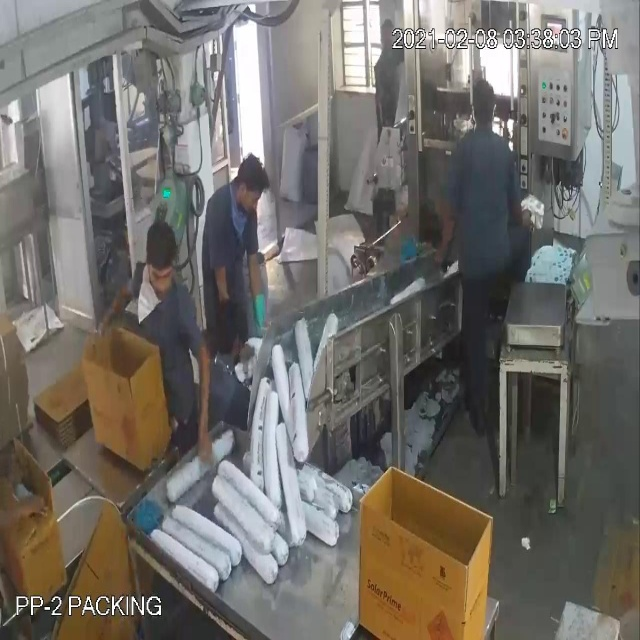Sin_guantes: (181, 328, 225, 467), (84, 284, 141, 355), (0, 478, 57, 532)
